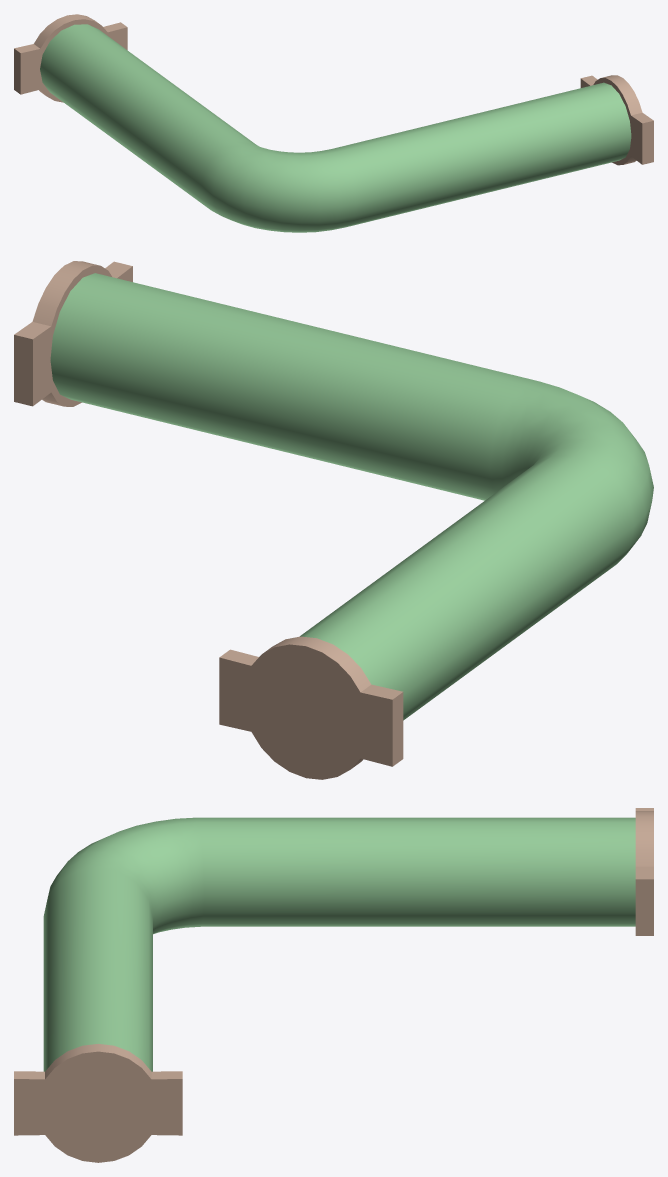
Rendered from Pipe_Small_02a_snaps020.FBX.
The picture shows the model from 3 angles, top to bottom: view 1: azimuth 30°, elevation 25°; view 2: azimuth 150°, elevation 25°; view 3: azimuth 270°, elevation 25°; orthographic projection. The views are drawn at different scales.
Visible parts, largest first — view 1: Pipe_Small_02a_snaps020_LOD0; view 2: Pipe_Small_02a_snaps020_LOD0; view 3: Pipe_Small_02a_snaps020_LOD0.
Part boxes in pixels (x1=…): Pipe_Small_02a_snaps020_LOD0: x1=14, y1=14, x2=653, y2=232; Pipe_Small_02a_snaps020_LOD0: x1=14, y1=261, x2=653, y2=779; Pipe_Small_02a_snaps020_LOD0: x1=14, y1=808, x2=653, y2=1162.
Size of what is drawn, in the model's own units: 0.5767 by 0.5759 by 0.1106.
